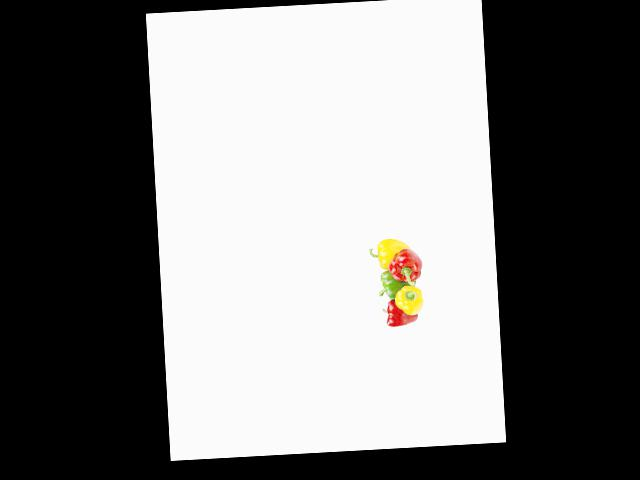bell_pepper: (380, 299, 414, 329)
